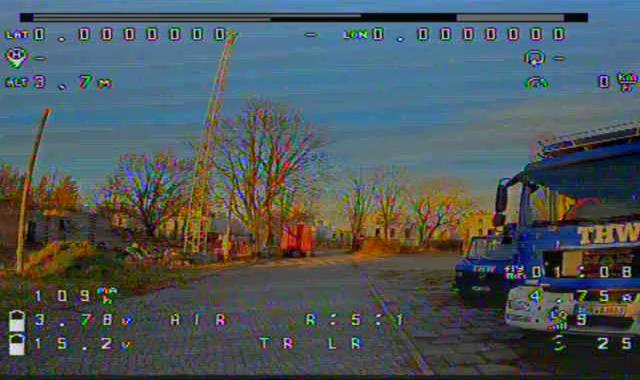car: (448, 221, 541, 317)
truck: (491, 112, 640, 369)
